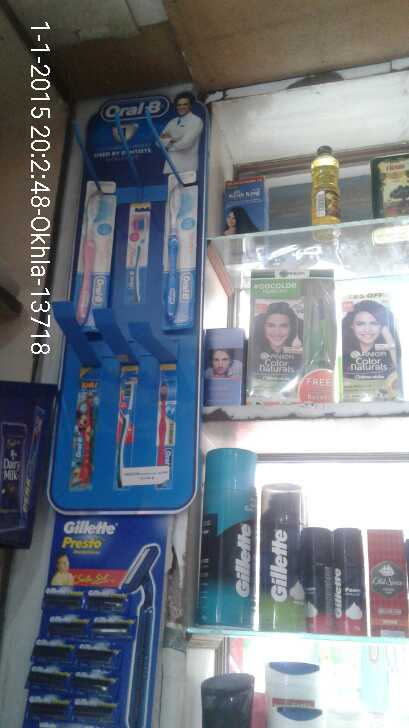beauty: (197, 443, 260, 628), (258, 484, 307, 637)
pharmacy: (72, 190, 112, 327), (158, 186, 184, 339)
